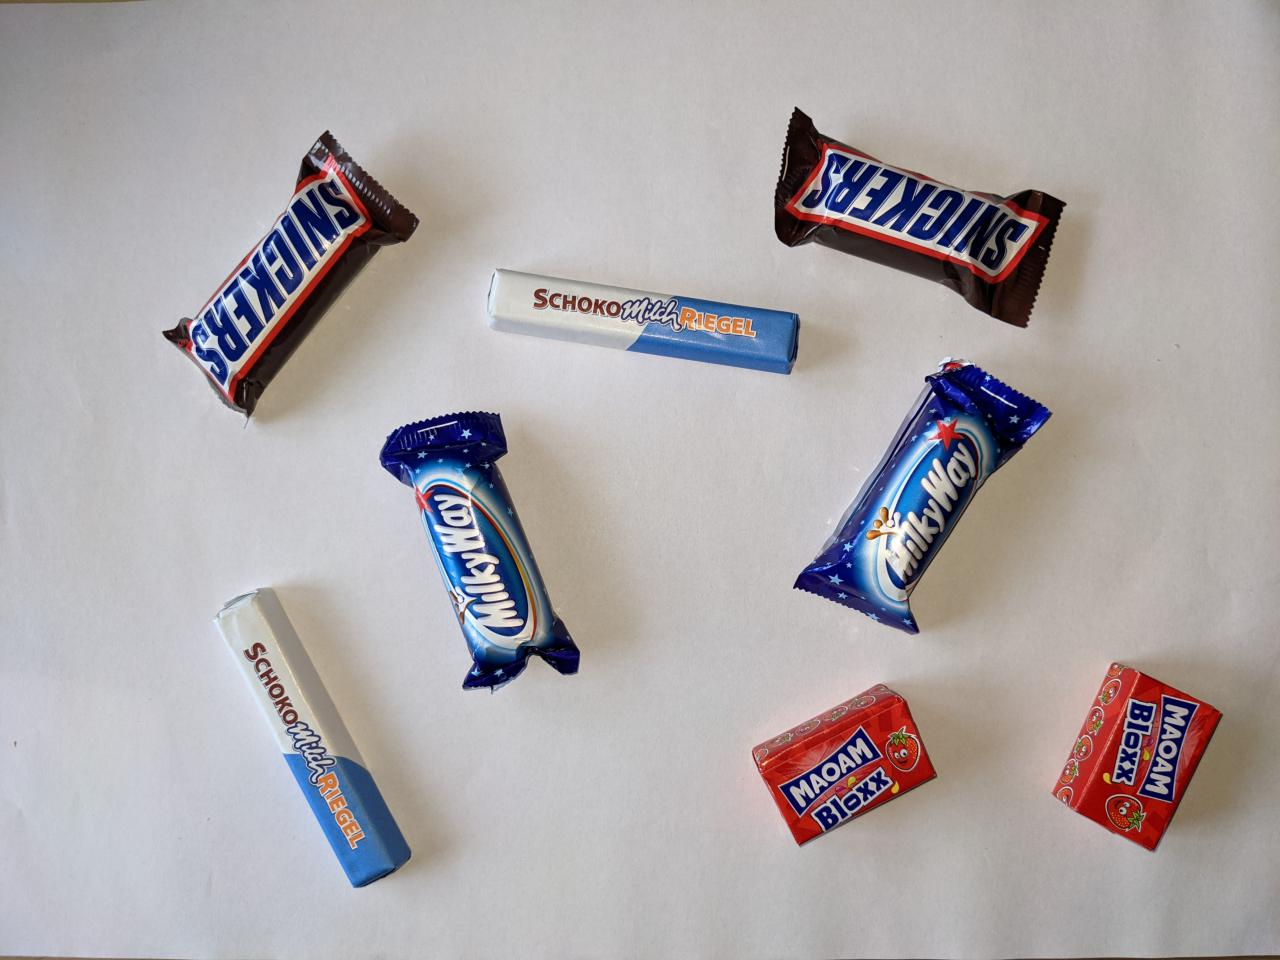MAOAM: (1043, 651, 1229, 861), (744, 681, 946, 857)
MilkyWay: (787, 353, 1062, 642), (376, 402, 592, 702)
Schokoriegel: (205, 579, 420, 896), (475, 255, 808, 381)
Snickers: (154, 122, 426, 431), (764, 96, 1076, 335)
